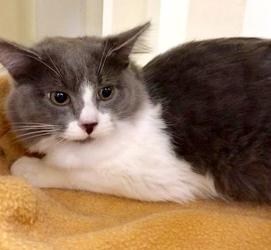ragdoll: (1, 19, 160, 152)
